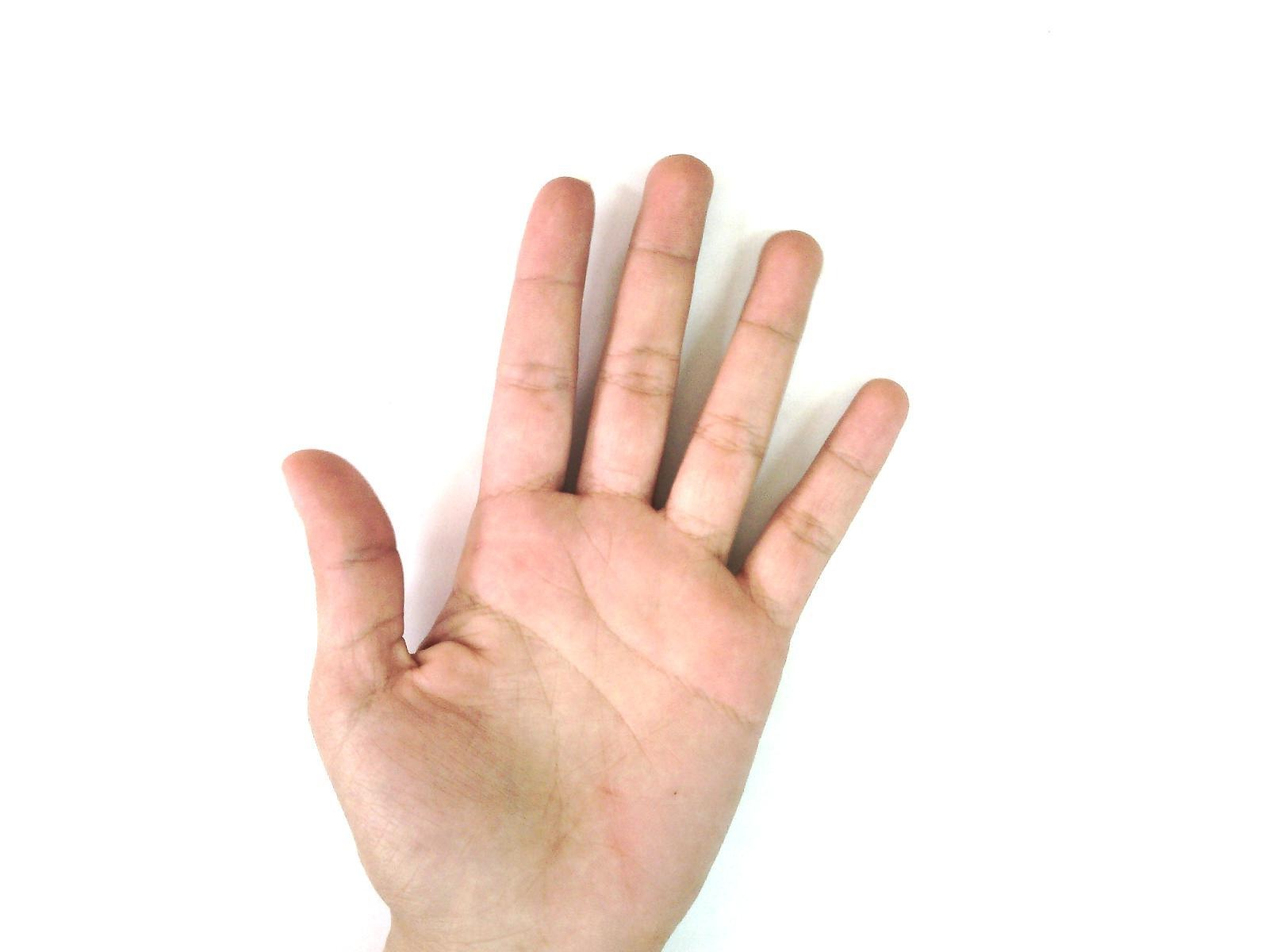open_palm: (279, 152, 912, 951)
